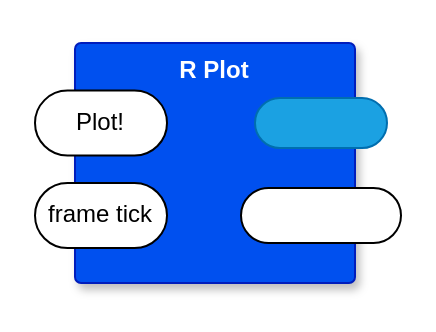
This 436x332 diagram has some shape labels left out. Each missing label, with the centre of its shape:
"image from R" goes at pixel 320 214.
"query to R" goes at pixel 320 122.
